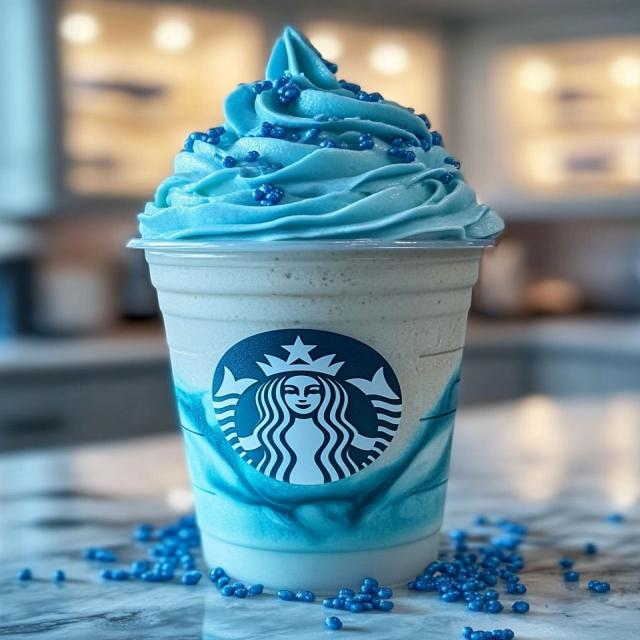plastic cup: (126, 26, 508, 597)
